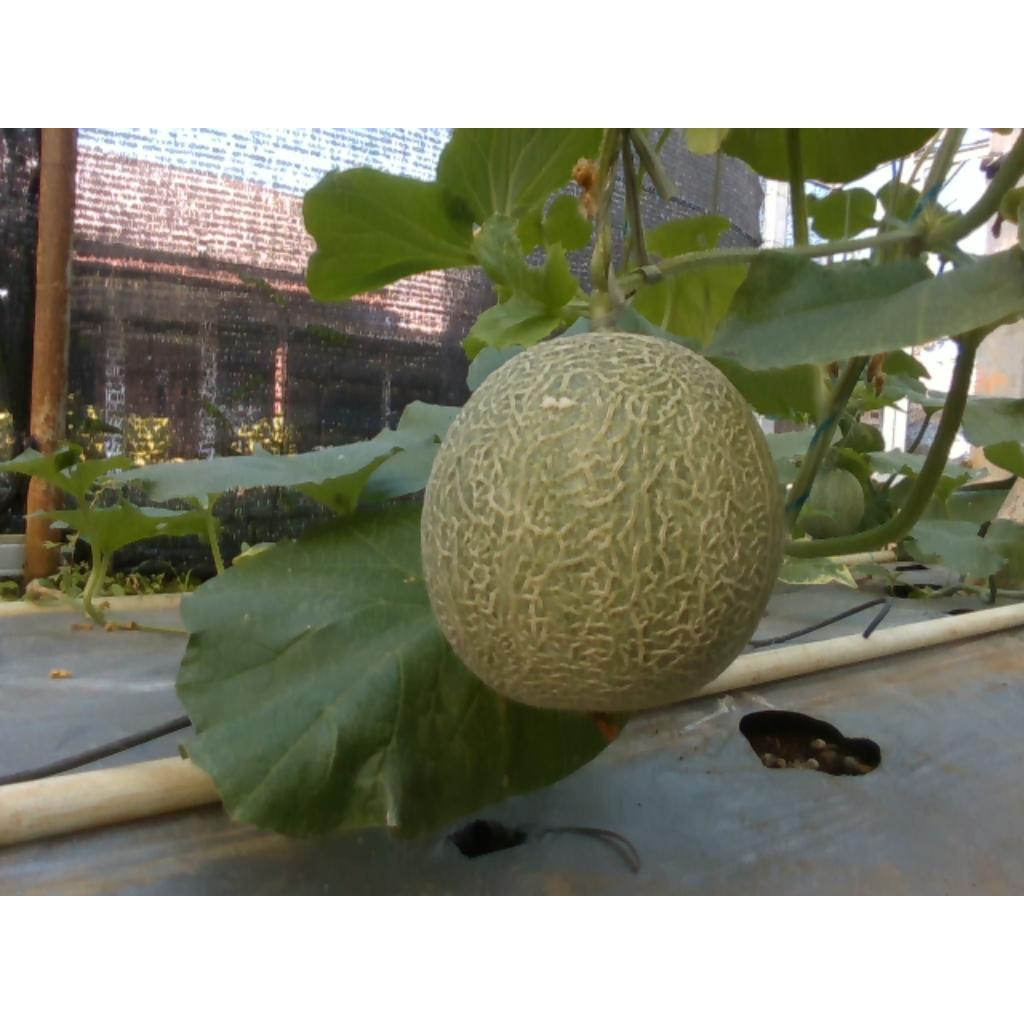melon: (422, 333, 786, 711)
